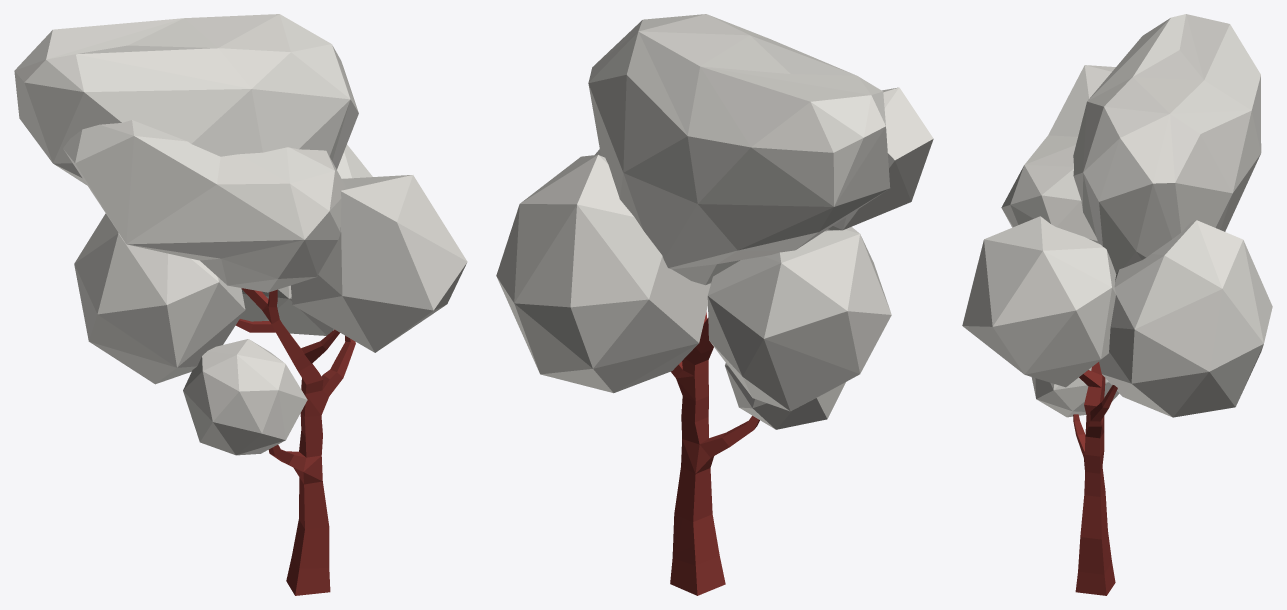
The model's file is Windswept_Tree_flat.glb.
The picture shows the model from 3 angles, left to right: view 1: azimuth 30°, elevation 25°; view 2: azimuth 150°, elevation 25°; view 3: azimuth 270°, elevation 25°; orthographic projection. The views are drawn at different scales.
Parts seen in each view (by area): view 1: Windswept green f; view 2: Windswept green f; view 3: Windswept green f.
Part boxes in pixels (x1,y1,x2,y2): Windswept green f: (14, 14, 467, 595); Windswept green f: (496, 14, 933, 595); Windswept green f: (962, 14, 1272, 595).
Bounding box in the file's own units: 10.33 × 15.38 × 8.88.
